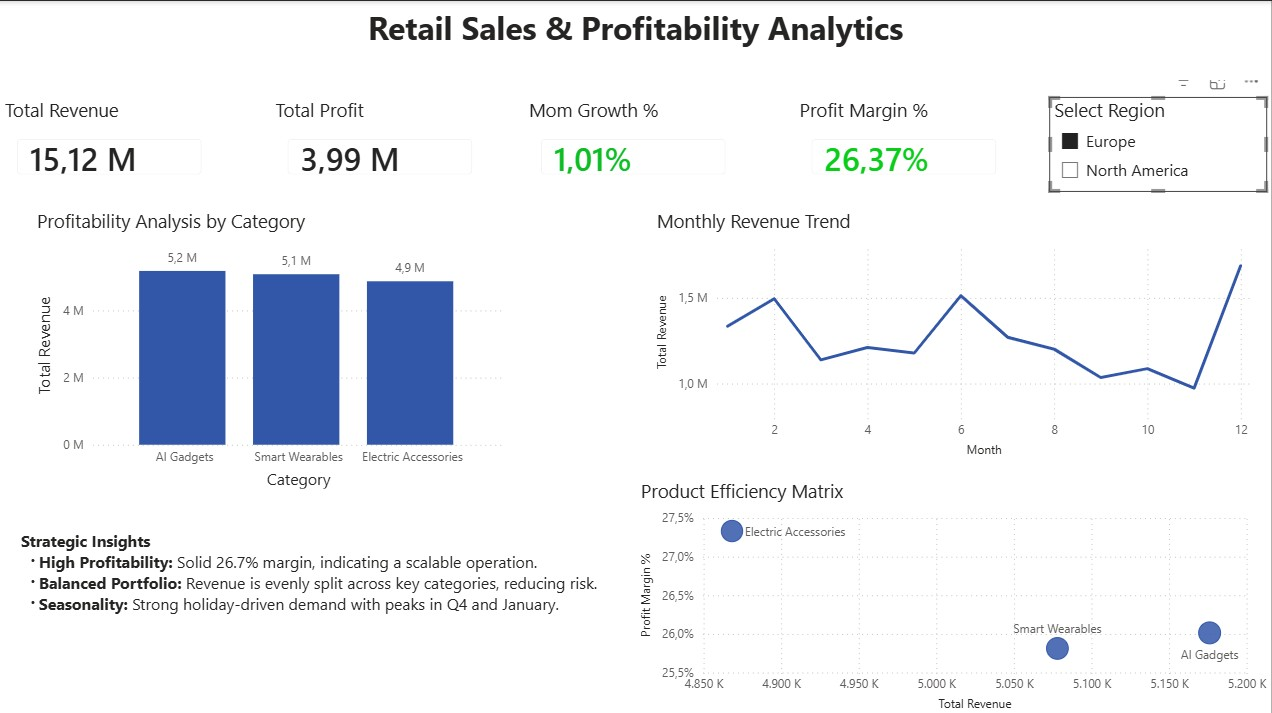

This screenshot's page, from the dashboard's own definition file:
{"tool":"powerbi","page":{"name":"Página 1","canvas":[1280,720],"ordinal":0},"visuals":[{"type":"clusteredColumnChart","title":"Profitability Analysis by Category","fields":{"Category":["products_clean.category"],"Y":["_Medidas.Total Revenue"]},"box":[32,208,480,288],"z":0},{"type":"cardVisual","title":"Total Revenue","fields":{"Data":["_Medidas.Total Revenue"]},"box":[0,96,220,96],"z":1000},{"type":"cardVisual","title":"Total Profit","fields":{"Data":["_Medidas.Total Profit"]},"box":[272,96,220,96],"z":2000},{"type":"cardVisual","title":"Profit Margin %","fields":{"Data":["_Medidas.Profit Margin %"]},"box":[800,96,220,96],"z":3000},{"type":"lineChart","title":"Monthly Revenue Trend","fields":{"Category":["calendar_clean.month"],"Y":["_Medidas.Total Revenue"]},"box":[656,208,608,256],"z":4000},{"type":"slicer","title":"Select Region","fields":{"Values":["stores_clean.region"]},"box":[1056,96,220,96],"z":5000},{"type":"textbox","box":[0,0,1280,80],"z":6000},{"type":"textbox","box":[16,528,608,192],"z":6001},{"type":"scatterChart","title":"Product Efficiency Matrix","fields":{"Category":["products_clean.category"],"X":["_Medidas.Total Revenue"],"Y":["_Medidas.Profit Margin %"],"Size":["_Medidas.Total Revenue"]},"box":[640,480,640,240],"z":6002},{"type":"cardVisual","title":"Mom Growth %","fields":{"Data":["_Medidas.MoM Growth %"]},"box":[528,96,220,96],"z":6003}]}

Visuals, with their boxes in screenshot pixels (x1, y1, x2, y2), scaled from the page's 1280x720 canvas onto the 1272x713 screenshot:
"Profitability Analysis by Category" clusteredColumnChart: crop(32, 206, 509, 491)
"Total Revenue" cardVisual: crop(0, 95, 219, 190)
"Total Profit" cardVisual: crop(270, 95, 489, 190)
"Profit Margin %" cardVisual: crop(795, 95, 1014, 190)
"Monthly Revenue Trend" lineChart: crop(652, 206, 1256, 459)
"Select Region" slicer: crop(1049, 95, 1268, 190)
textbox: crop(0, 0, 1271, 79)
textbox: crop(16, 523, 620, 712)
"Product Efficiency Matrix" scatterChart: crop(636, 475, 1271, 712)
"Mom Growth %" cardVisual: crop(525, 95, 743, 190)
